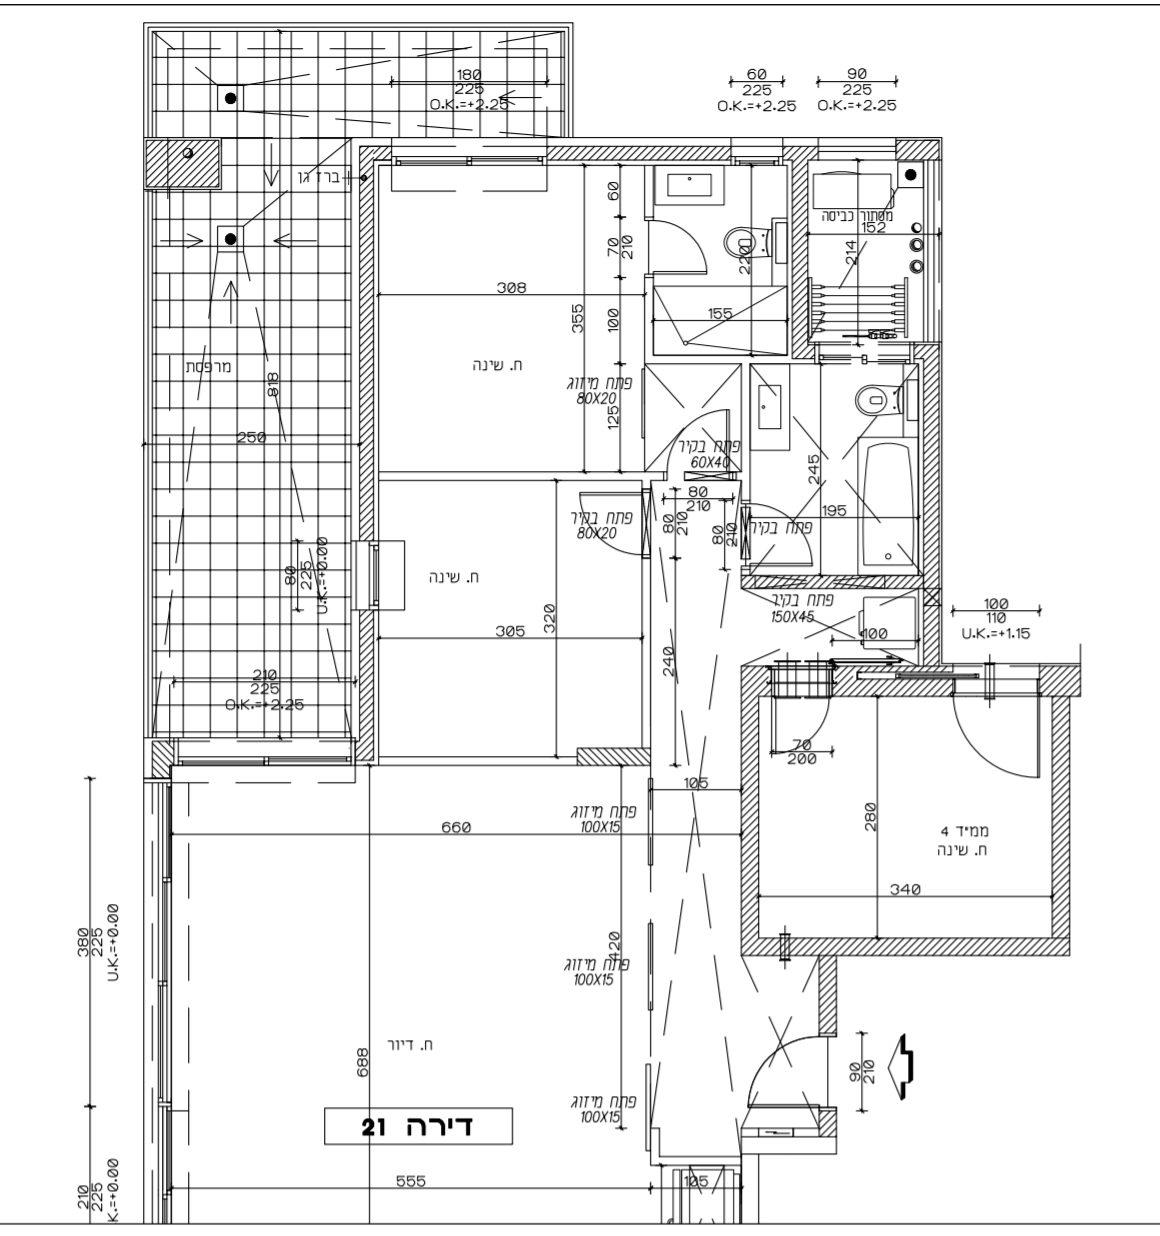wall: (740, 665, 758, 956), (1051, 696, 1070, 957), (790, 938, 1050, 957)
window: (360, 146, 374, 541), (177, 738, 352, 764), (391, 137, 546, 166), (817, 135, 896, 161), (351, 540, 378, 610), (732, 137, 783, 165)
